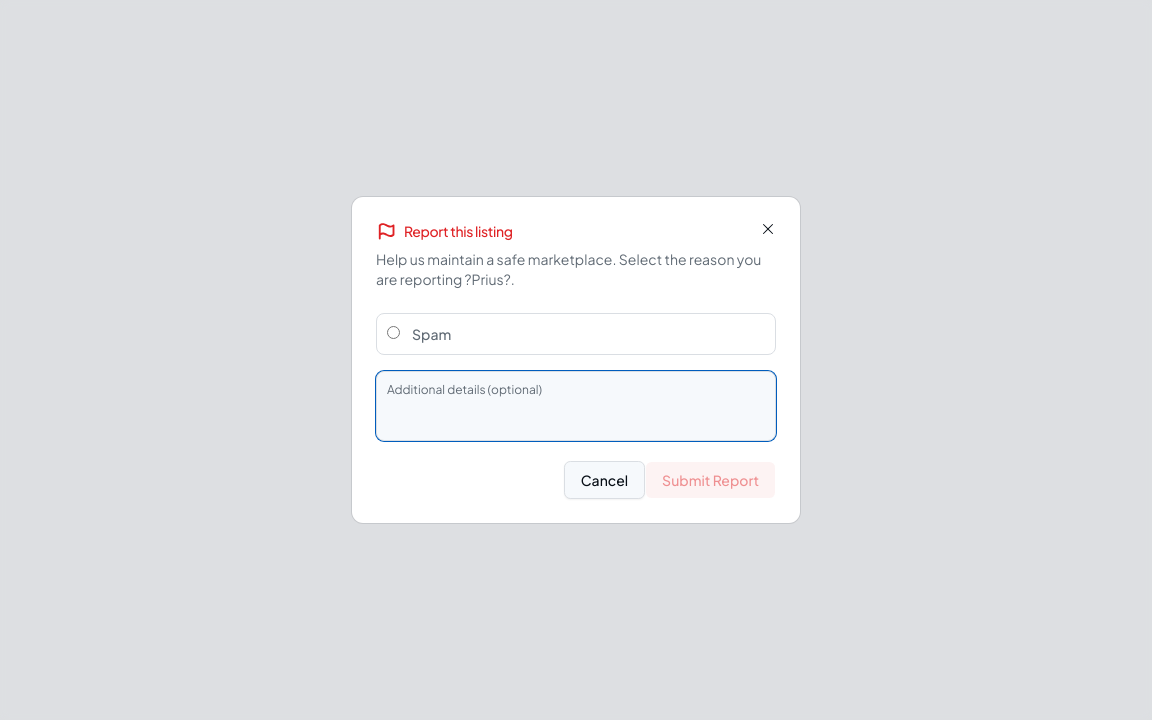
Test: <ListingReportDialog /> › submits the reason id and optional details for this listing
This screenshot has width=1152, height=720.
Click the radio button labelled "Spam".
click(394, 332)  # box [387,326,400,339]
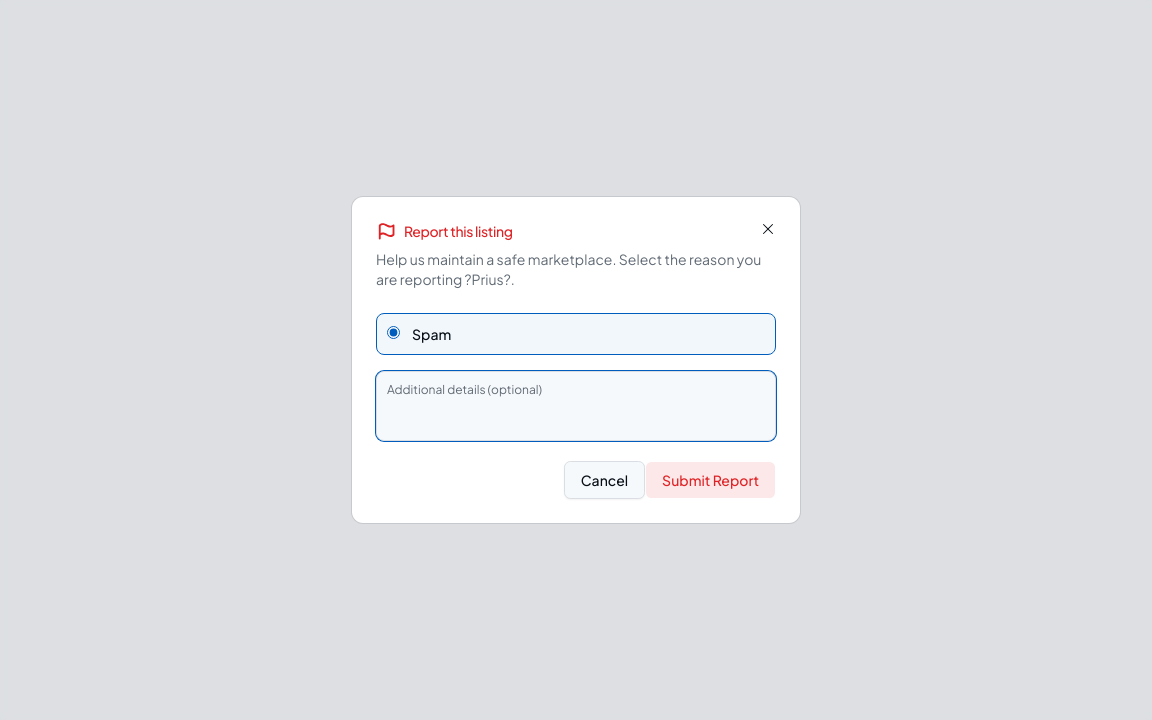
Type " looks fake " into the text box labelled "Additional details".
click(576, 406); type(" looks fake ")  # box [376,371,776,441]
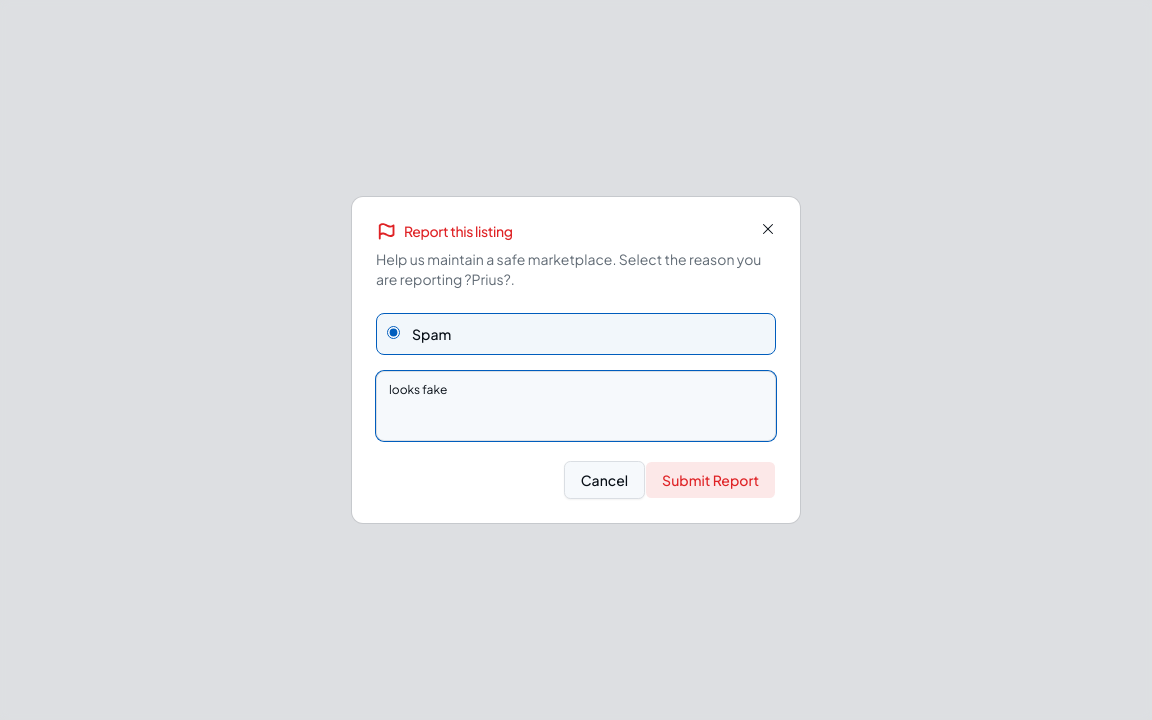
Click the button "Submit Report".
click(711, 480)  # box [645,461,776,499]
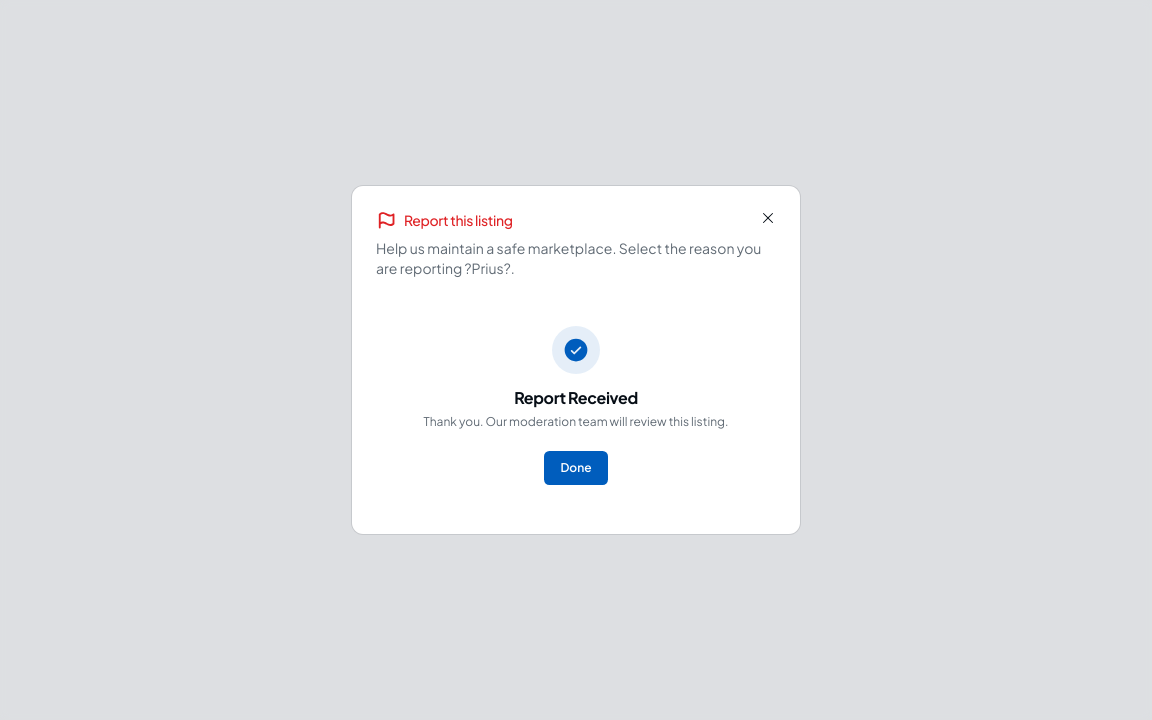
Result: the heading "Report Received" is shown at [514,387,638,408]
